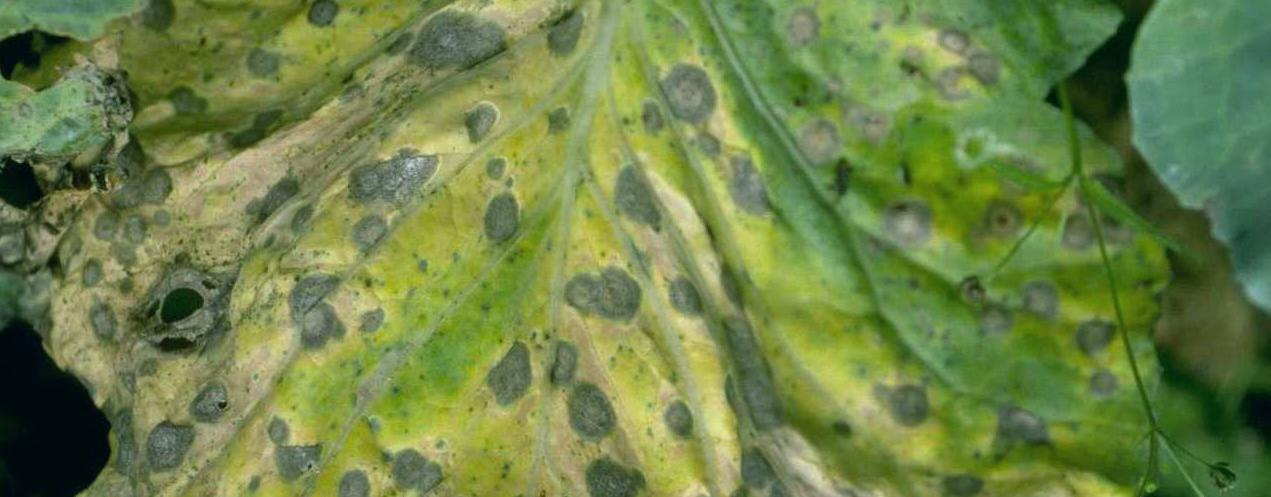Tomato leaf bacterial spot: (15, 0, 1196, 497)
